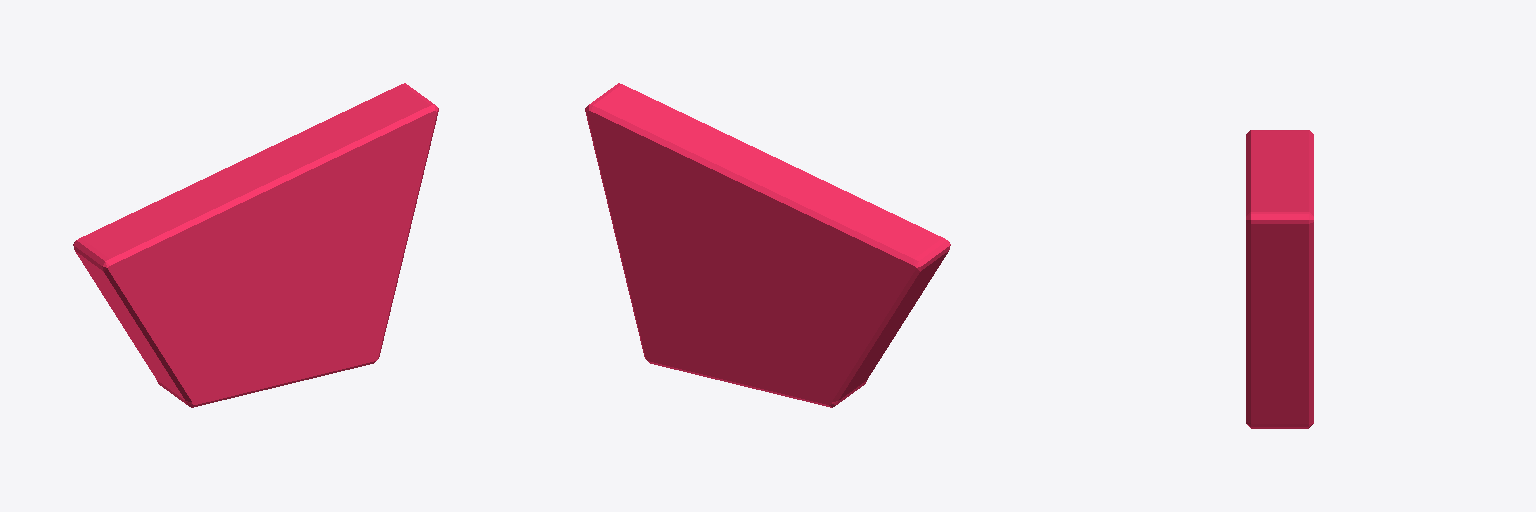
File: handl_remote.obj
3 renders of one model, left to right at view 1: azimuth 30°, elevation 25°; view 2: azimuth 150°, elevation 25°; view 3: azimuth 270°, elevation 25°, orthographic.
Parts seen in each view (by area): view 1: handl_remote; view 2: handl_remote; view 3: handl_remote.
Part boxes in pixels (bbox=[...]): handl_remote: bbox=[73, 83, 438, 407]; handl_remote: bbox=[585, 83, 950, 407]; handl_remote: bbox=[1246, 130, 1313, 428].
Bounding box in the file's own units: 0.0864 × 0.06 × 0.015.